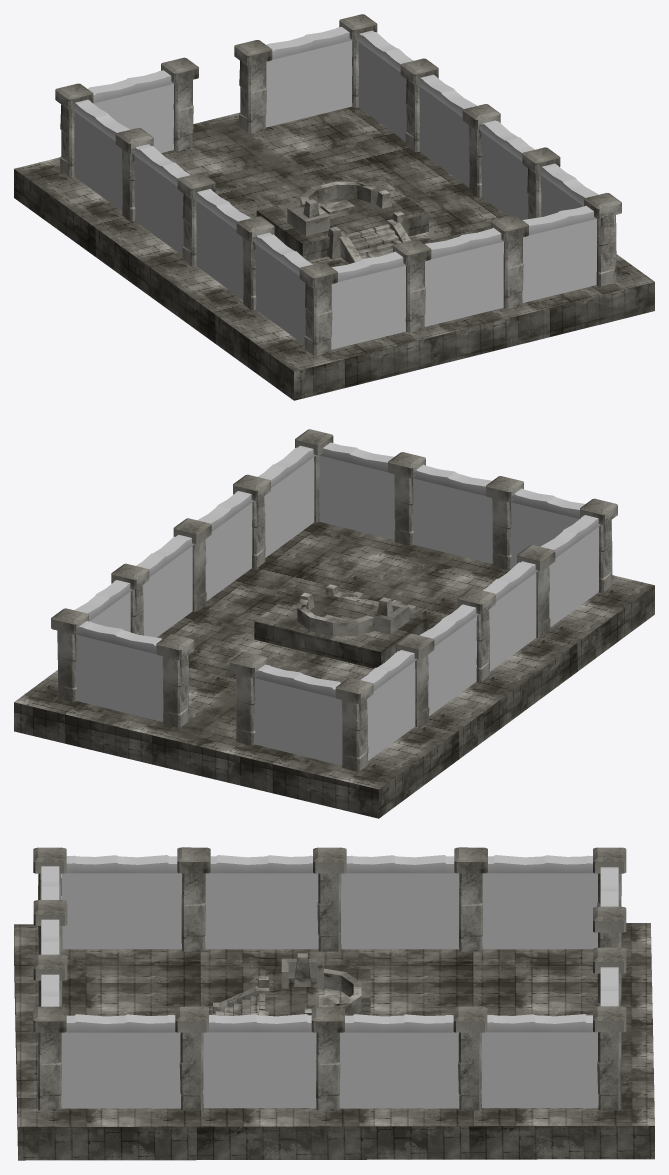
File: Level_Design2.fbx
The picture shows the model from 3 angles, top to bottom: view 1: azimuth 30°, elevation 25°; view 2: azimuth 150°, elevation 25°; view 3: azimuth 270°, elevation 25°; orthographic projection. The views are drawn at different scales.
Visible parts, largest first — view 1: Levels_Base2, Levels_Wall2, Levels_Wall10, Levels_Wall7, Levels_Wall8, Levels_pCube1, Levels_Wall4, Levels_Wall13, Levels_Wall5, Levels_Wall9, Levels_Wall6, Levels_Wall (+20 smaller); view 2: Levels_Base2, Levels_Wall5, Levels_Wall2, Levels_Wall10, Levels_pCube1, Levels_Wall8, Levels_Wall13, Levels_Wall12, Levels_Wall9, Levels_Wall4, Levels_Wall6, Levels_Wall14 (+19 smaller); view 3: Levels_Base2, Levels_Wall12, Levels_Wall4, Levels_Wall13, Levels_Wall9, Levels_Wall, Levels_Wall6, Levels_Wall11, Levels_Wall14, Levels_Pillar12, Levels_Pillar14, Levels_Pillar11 (+22 smaller).
Boxes of the visible parts, left/top/right/bottom form: Levels_Base2: left=14, top=106, right=654, bottom=400; Levels_Wall2: left=265, top=26, right=352, bottom=127; Levels_Wall10: left=424, top=227, right=503, bottom=326; Levels_Wall7: left=331, top=251, right=406, bottom=349; Levels_Wall8: left=522, top=206, right=596, bottom=302; Levels_pCube1: left=256, top=180, right=428, bottom=260; Levels_Wall4: left=418, top=74, right=476, bottom=187; Levels_Wall13: left=254, top=232, right=312, bottom=344; Levels_Wall5: left=88, top=70, right=173, bottom=152; Levels_Wall9: left=133, top=144, right=190, bottom=255; Levels_Wall6: left=72, top=99, right=129, bottom=211; Levels_Wall: left=357, top=30, right=413, bottom=141; Levels_Base2: left=14, top=522, right=654, bottom=818; Levels_Wall5: left=254, top=664, right=342, bottom=765; Levels_Wall2: left=75, top=621, right=163, bottom=721; Levels_Wall10: left=412, top=464, right=492, bottom=563; Levels_pCube1: left=254, top=587, right=426, bottom=668; Levels_Wall8: left=319, top=442, right=394, bottom=539; Levels_Wall13: left=541, top=515, right=600, bottom=627; Levels_Wall12: left=258, top=445, right=315, bottom=557; Levels_Wall9: left=420, top=604, right=478, bottom=715; Levels_Wall4: left=136, top=534, right=194, bottom=637; Levels_Wall6: left=360, top=650, right=416, bottom=760; Levels_Wall14: left=483, top=561, right=537, bottom=671; Levels_Base2: left=14, top=923, right=654, bottom=1160; Levels_Wall12: left=61, top=1014, right=180, bottom=1108; Levels_Wall4: left=339, top=1014, right=459, bottom=1108; Levels_Wall13: left=62, top=855, right=181, bottom=949; Levels_Wall9: left=340, top=855, right=459, bottom=949; Levels_Wall: left=481, top=1014, right=598, bottom=1108; Levels_Wall6: left=482, top=855, right=597, bottom=949; Levels_Wall11: left=203, top=1014, right=316, bottom=1108; Levels_Wall14: left=205, top=855, right=318, bottom=949; Levels_Pillar12: left=33, top=1006, right=66, bottom=1110; Levels_Pillar14: left=177, top=847, right=210, bottom=951; Levels_Pillar11: left=593, top=1006, right=626, bottom=1110.
Bounding box in the file's own units: 27.57 × 8.03 × 36.6.
